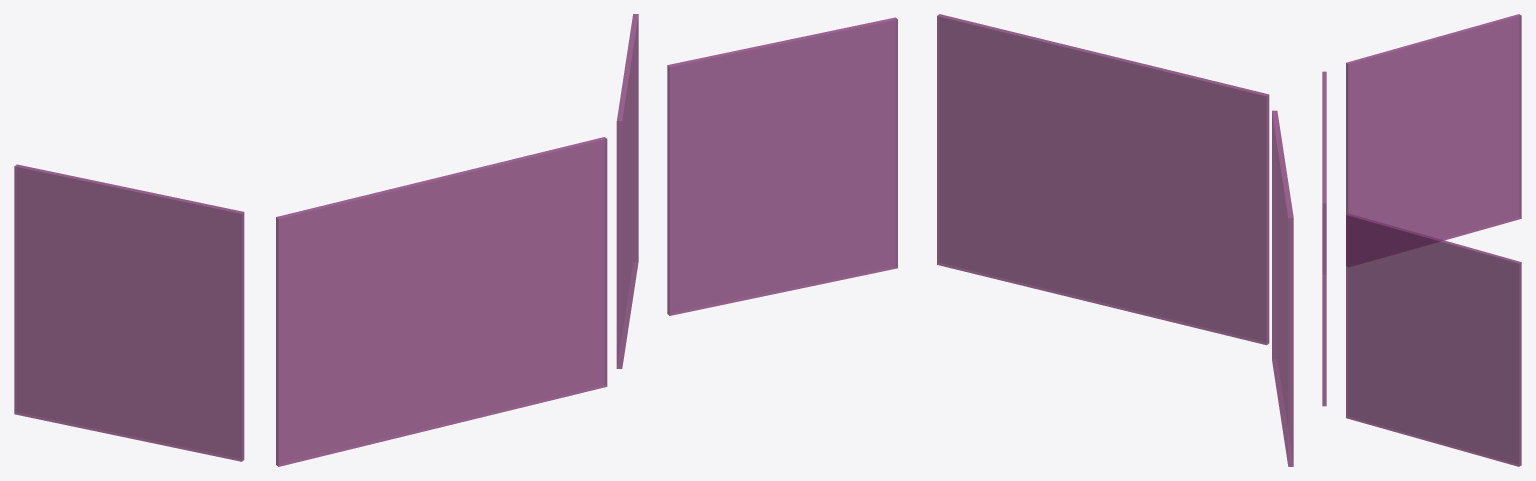
The model's file is SM_Bld_Alcove_01_Glass_01_Collision.fbx.
3 views of the same model, side by side, from view 1: azimuth 30°, elevation 25°; view 2: azimuth 150°, elevation 25°; view 3: azimuth 270°, elevation 25° (orthographic). The views are drawn at different scales.
Parts seen in each view (by area): view 1: SM_Bld_Alcove_01_Glass_01_Collision; view 2: SM_Bld_Alcove_01_Glass_01_Collision; view 3: SM_Bld_Alcove_01_Glass_01_Collision.
Boxes of the visible parts, x1,y1,x2,y2 form: SM_Bld_Alcove_01_Glass_01_Collision: [14, 14, 638, 466]; SM_Bld_Alcove_01_Glass_01_Collision: [667, 14, 1293, 466]; SM_Bld_Alcove_01_Glass_01_Collision: [1322, 14, 1521, 466].
Size of the model in its own units: 311 by 118 by 105.
